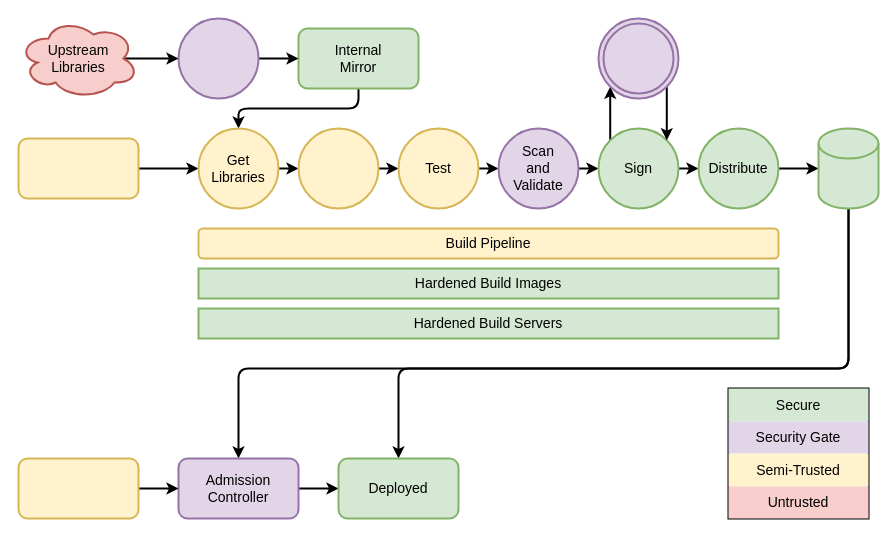
This 896x536 diagram has some shape labels left out. Each missing label, with the box of its shape:
Compile: (297, 127, 379, 209)
GitOps: (17, 457, 139, 519)
HSM: (597, 17, 679, 99)
OSS Ingestion: (177, 17, 259, 99)
Registry: (817, 127, 879, 209)
Version Control: (17, 137, 139, 199)
